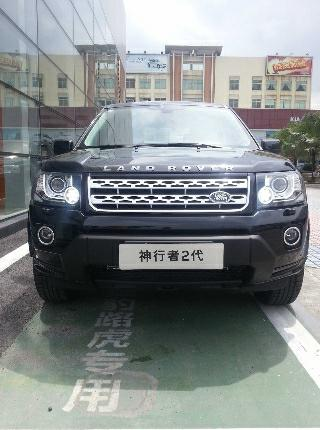MINI-JCWPACEMAN: (26, 94, 313, 311)
